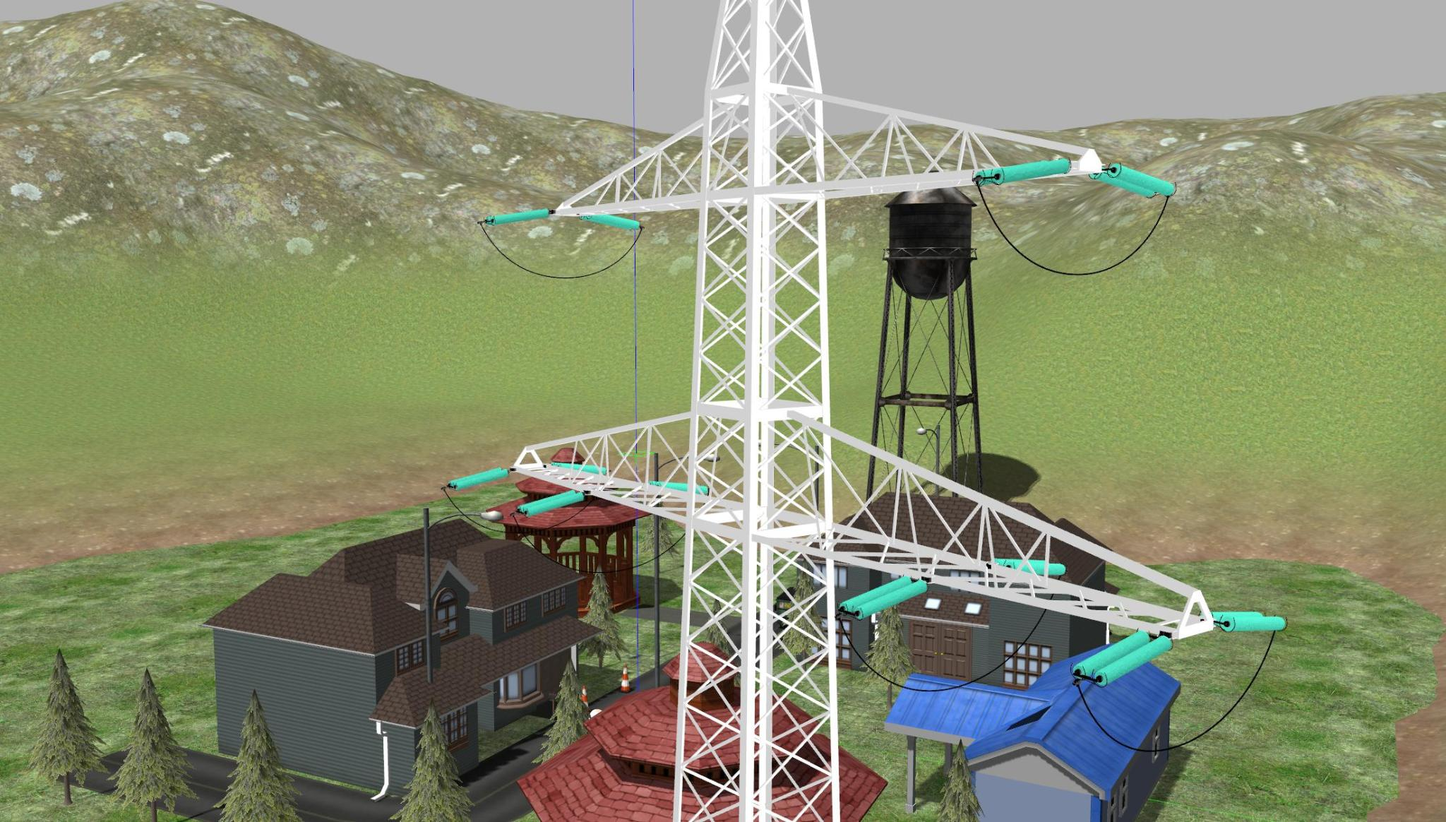tower: (507, 0, 1218, 822)
